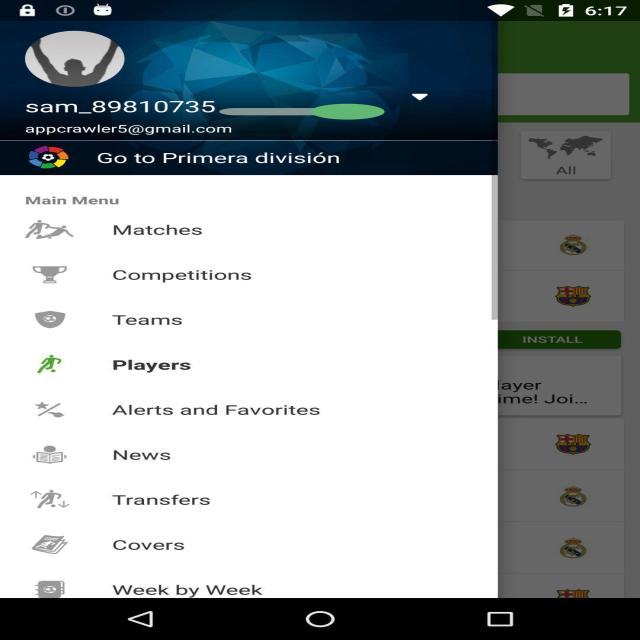social proof: (219, 94, 385, 129)
